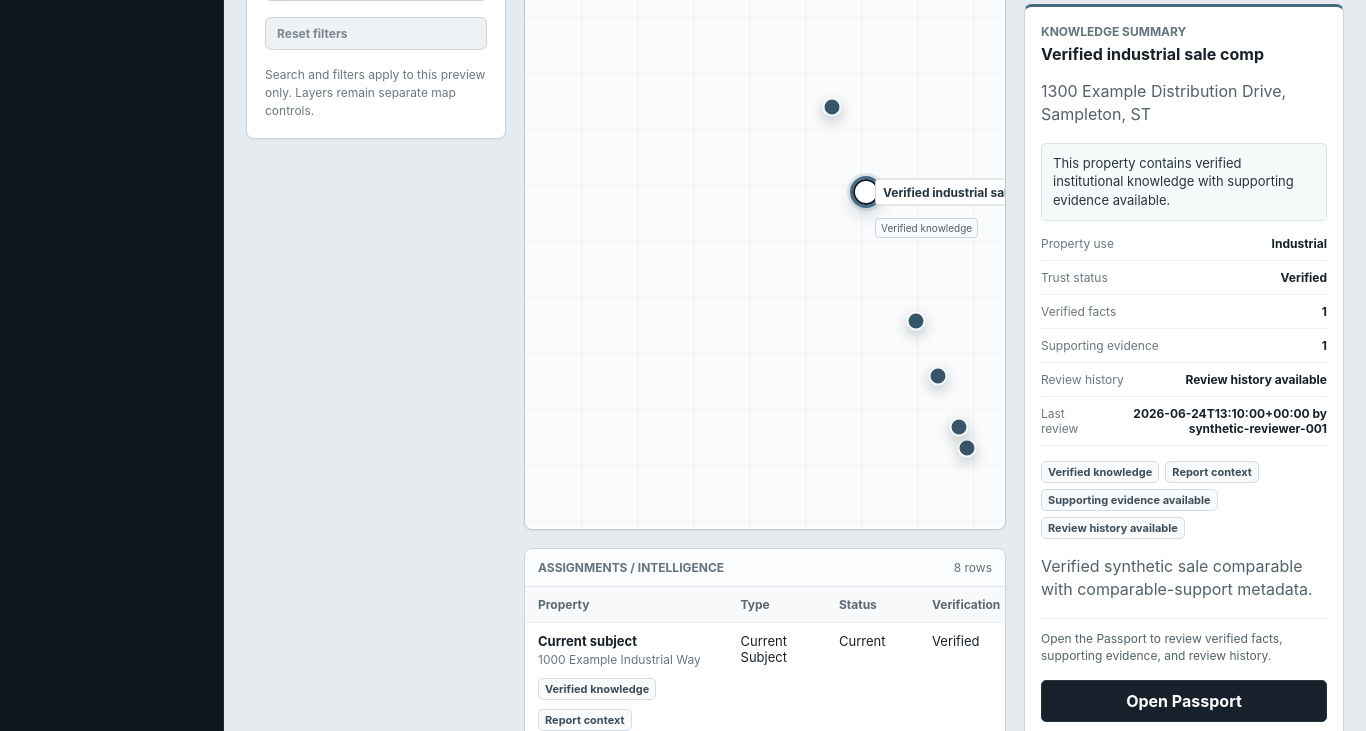
Test: IntelligenceWorkspacePreview › supports the airport warehouse demo scenario through Knowledge Summary, Passport, Evidence, and Audit
The width and height of the screenshot is (1366, 731).
(page scrolled)
Click the button named "Select Airport warehouse". click: (938, 376)
box: [929,367,948,386]
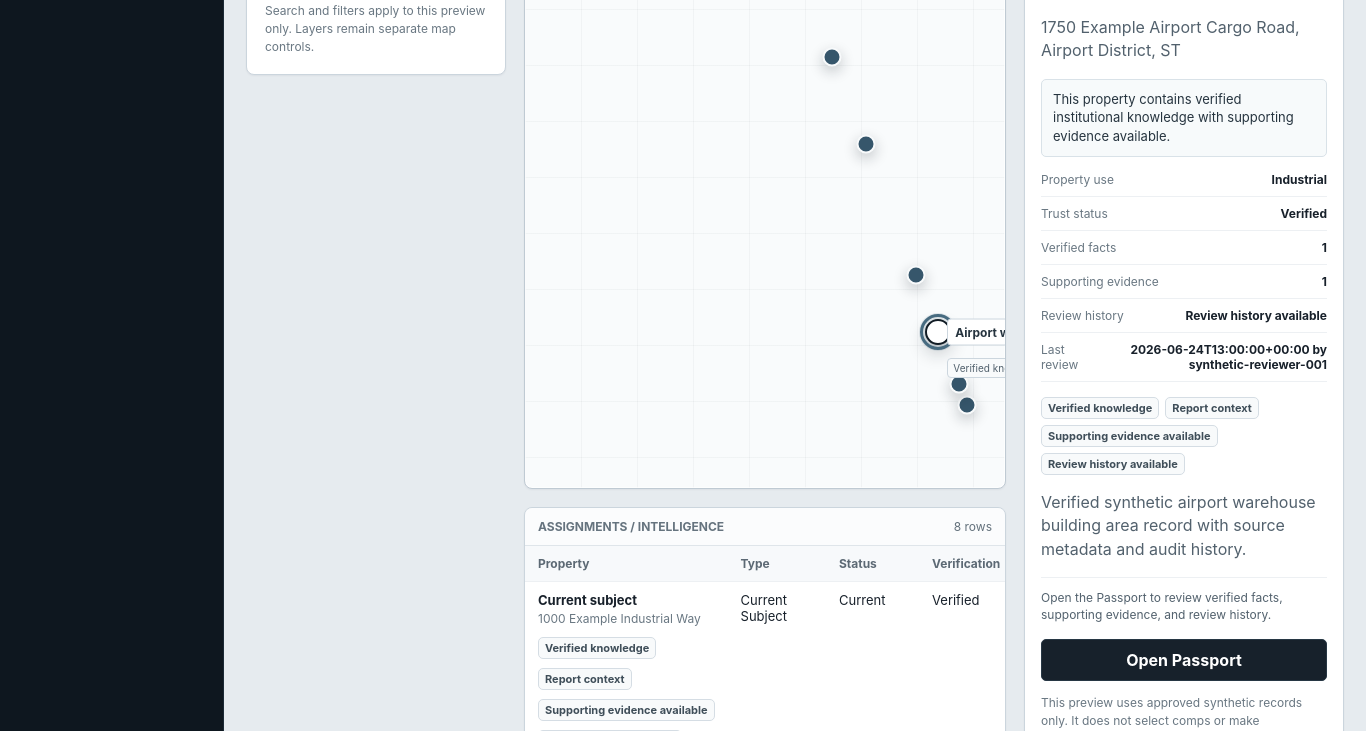
Expected: the text "Review history available" below "Trust status" is shown, [1185,308,1327,323]
Expected: the text "1750 Example Airport Cargo Road, Airport District, ST" is shown, [1041,16,1327,63]
Expected: the text "building area record" is shown, [1041,492,1316,558]
Click the button "Open Passport". click: (1184, 660)
box: [1041,640,1327,682]
(page scrolled)
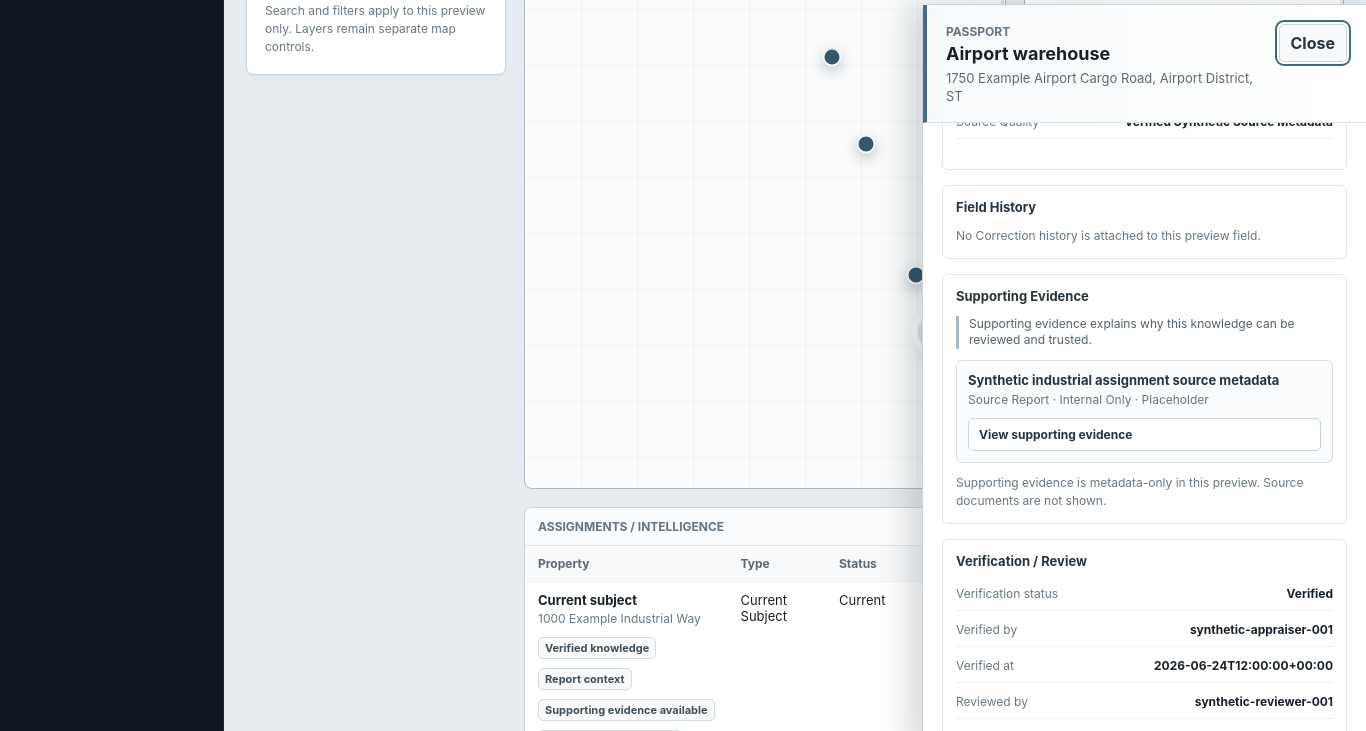
Click the button "View supporting evidence". click: (1056, 435)
box: [968,418,1321,451]
(page scrolled)
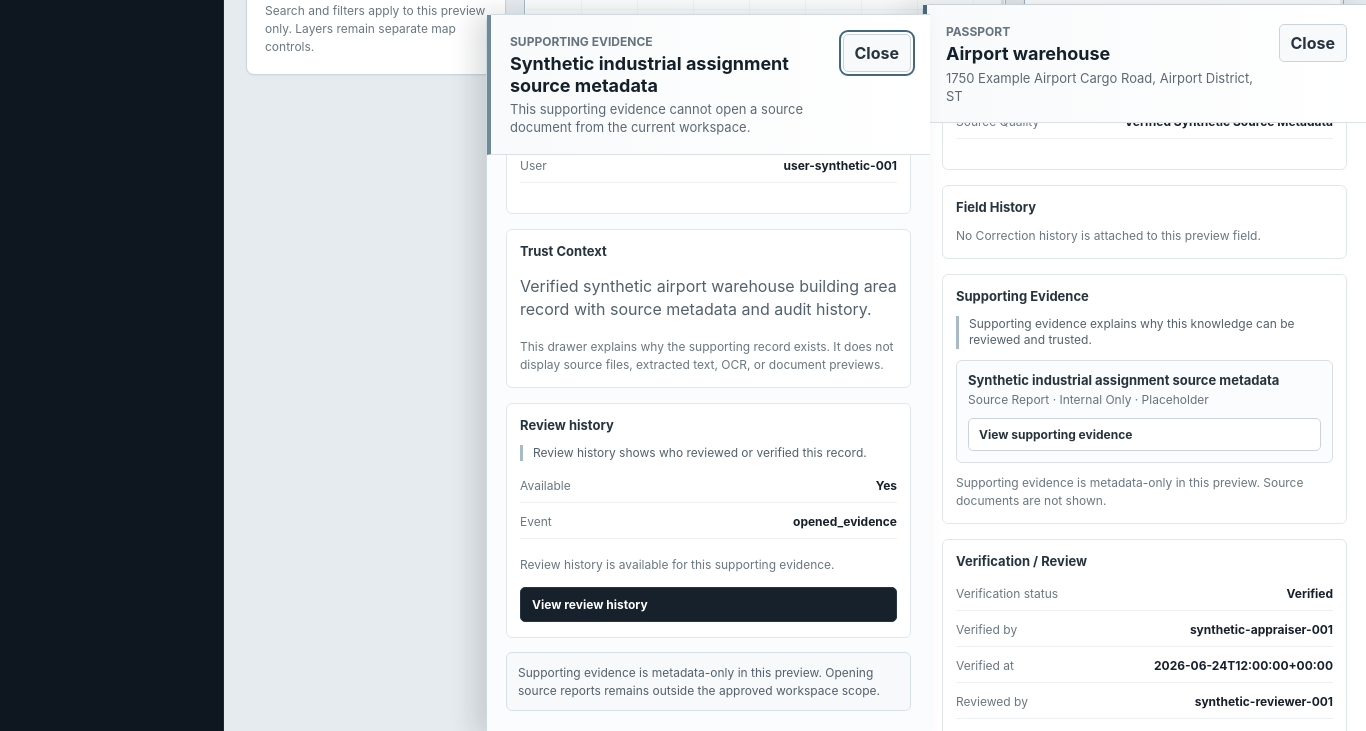
Click the button "View review history". click: (590, 605)
box: [520,587,897,622]
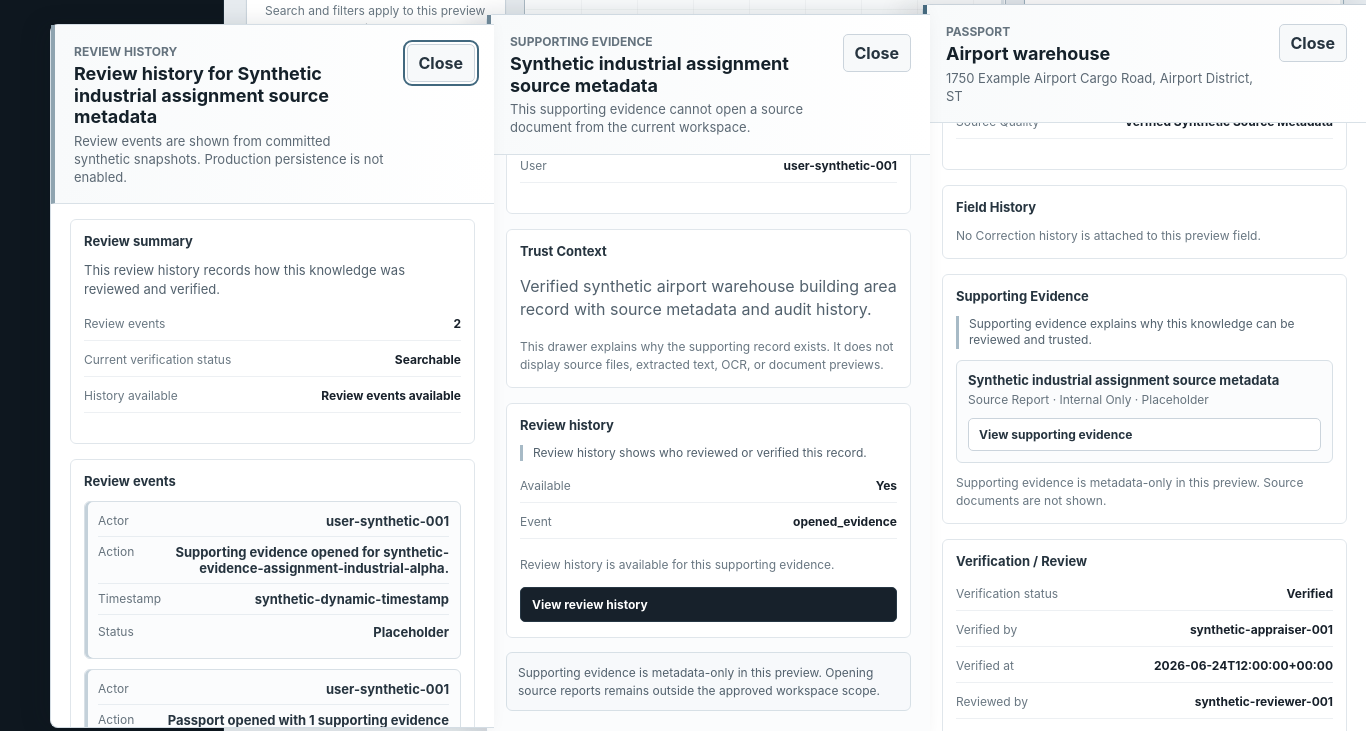
Expected: the heading "Review events" is shown, [84,473,176,489]
Expected: the text "Supporting evidence opened" is shown, [175,544,449,576]
